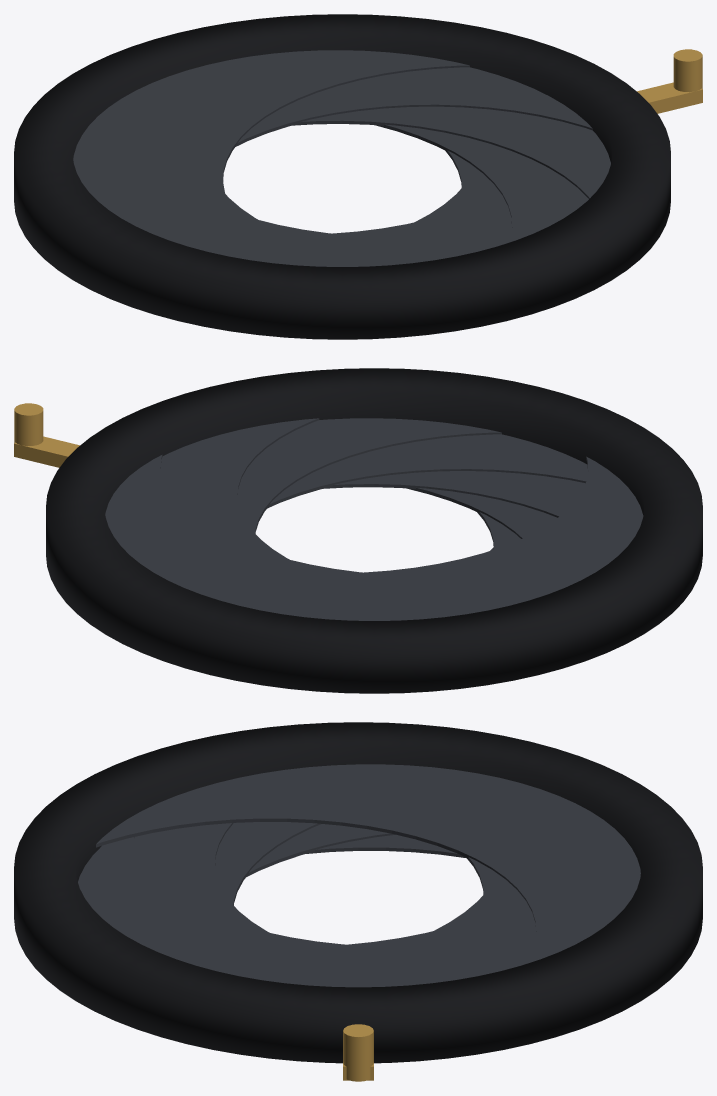
The model's file is light-control.glb.
3 renders of one model, top to bottom at view 1: azimuth 30°, elevation 25°; view 2: azimuth 150°, elevation 25°; view 3: azimuth 270°, elevation 25°, orthographic. The views are drawn at different scales.
Visible parts, largest first — view 1: part0, part11, part10, part9, part8, part7, part6, part5, part2, part1, part4; view 2: part0, part11, part8, part7, part9, part10, part6, part5, part2, part1, part4; view 3: part0, part11, part7, part10, part8, part6, part9, part5, part4, part2, part3.
Boxes of the visible parts, x1=… form: part0: x1=14, y1=14, x2=670, y2=339; part11: x1=73, y1=50, x2=469, y2=266; part10: x1=236, y1=67, x2=592, y2=146; part9: x1=293, y1=106, x2=610, y2=198; part8: x1=376, y1=124, x2=588, y2=242; part7: x1=394, y1=150, x2=511, y2=264; part6: x1=290, y1=188, x2=461, y2=266; part5: x1=254, y1=222, x2=413, y2=255; part2: x1=673, y1=49, x2=702, y2=92; part1: x1=637, y1=82, x2=702, y2=113; part4: x1=235, y1=213, x2=330, y2=234; part0: x1=46, y1=368, x2=702, y2=693; part11: x1=108, y1=456, x2=643, y2=620; part8: x1=237, y1=418, x2=501, y2=533; part7: x1=267, y1=434, x2=587, y2=508; part9: x1=160, y1=418, x2=319, y2=559; part10: x1=105, y1=454, x2=362, y2=573; part6: x1=325, y1=471, x2=585, y2=517; part5: x1=406, y1=487, x2=557, y2=538; part2: x1=14, y1=403, x2=43, y2=446; part1: x1=14, y1=436, x2=79, y2=467; part4: x1=477, y1=512, x2=520, y2=549; part0: x1=14, y1=722, x2=702, y2=1063; part11: x1=96, y1=764, x2=640, y2=964; part7: x1=78, y1=837, x2=344, y2=946; part10: x1=383, y1=857, x2=536, y2=986; part8: x1=92, y1=908, x2=432, y2=974; part6: x1=134, y1=823, x2=269, y2=932; part9: x1=233, y1=895, x2=483, y2=987; part5: x1=215, y1=822, x2=320, y2=905; part4: x1=247, y1=824, x2=394, y2=876; part2: x1=343, y1=1024, x2=373, y2=1081; part3: x1=306, y1=834, x2=466, y2=858.
Size of the model in its own units: 2.53 by 0.23 by 2.24.
